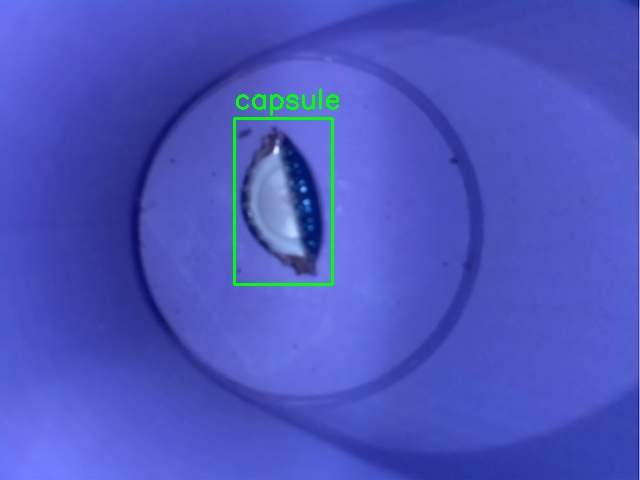capsule: (234, 118, 332, 284)
